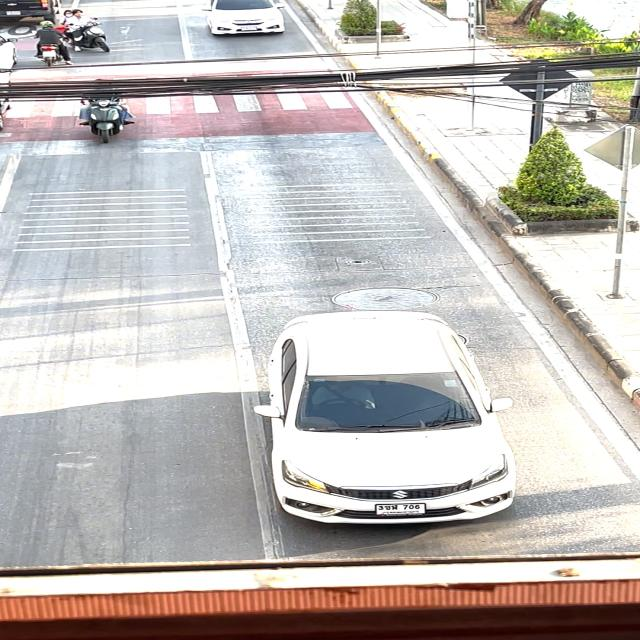car: (244, 300, 530, 546), (182, 0, 302, 50)
